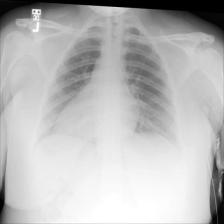normal: (36, 14, 182, 156)
